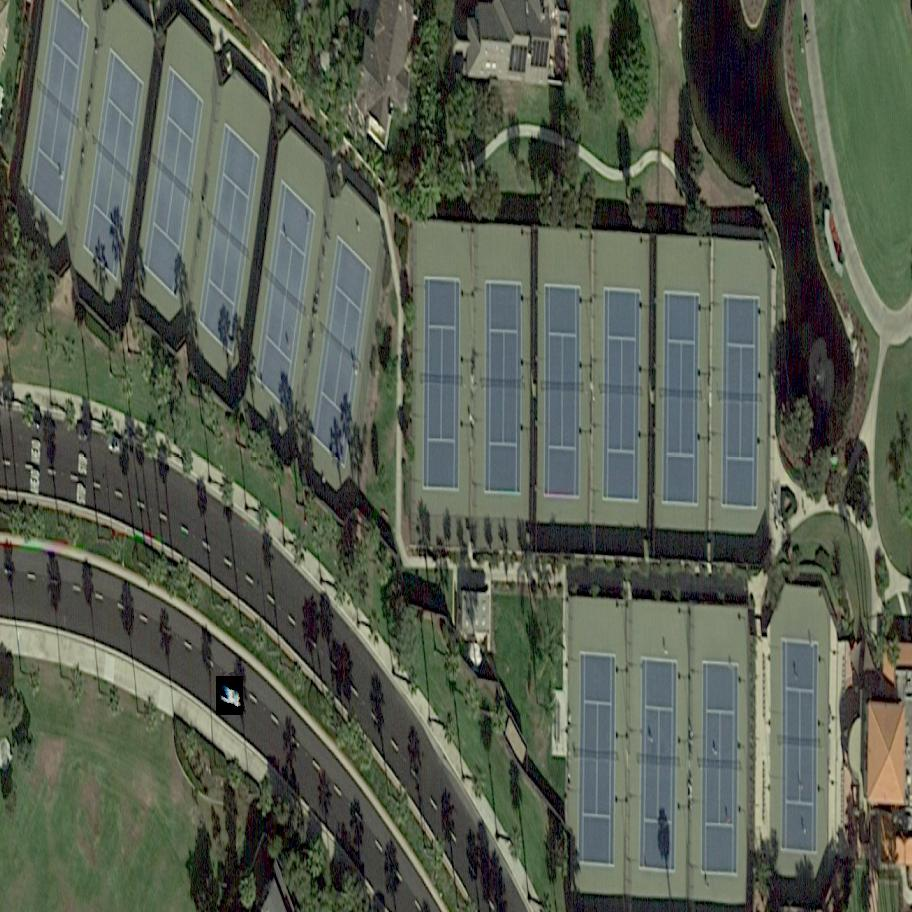small-vehicle: (207, 676, 253, 714)
